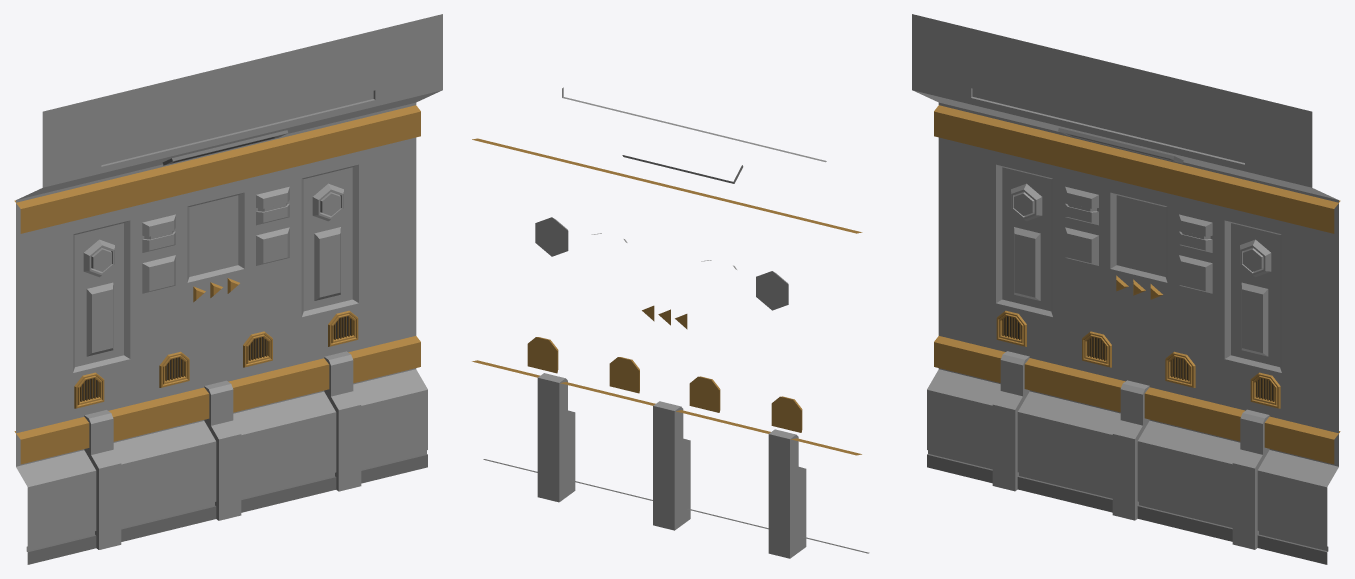
Rendered from quaternius-modular-sci-fi-wall-3.glb.
3 renders of one model, left to right at view 1: azimuth 30°, elevation 25°; view 2: azimuth 150°, elevation 25°; view 3: azimuth 330°, elevation 25°, orthographic. The views are drawn at different scales.
Visible parts, largest first — view 1: Wall_3; view 2: Wall_3; view 3: Wall_3.
Part boxes in pixels (x1=…): Wall_3: x1=14, y1=14, x2=442, y2=564; Wall_3: x1=472, y1=87, x2=869, y2=558; Wall_3: x1=912, y1=14, x2=1340, y2=564.
Size of the model in its own units: 4 by 4.43 by 0.523.
